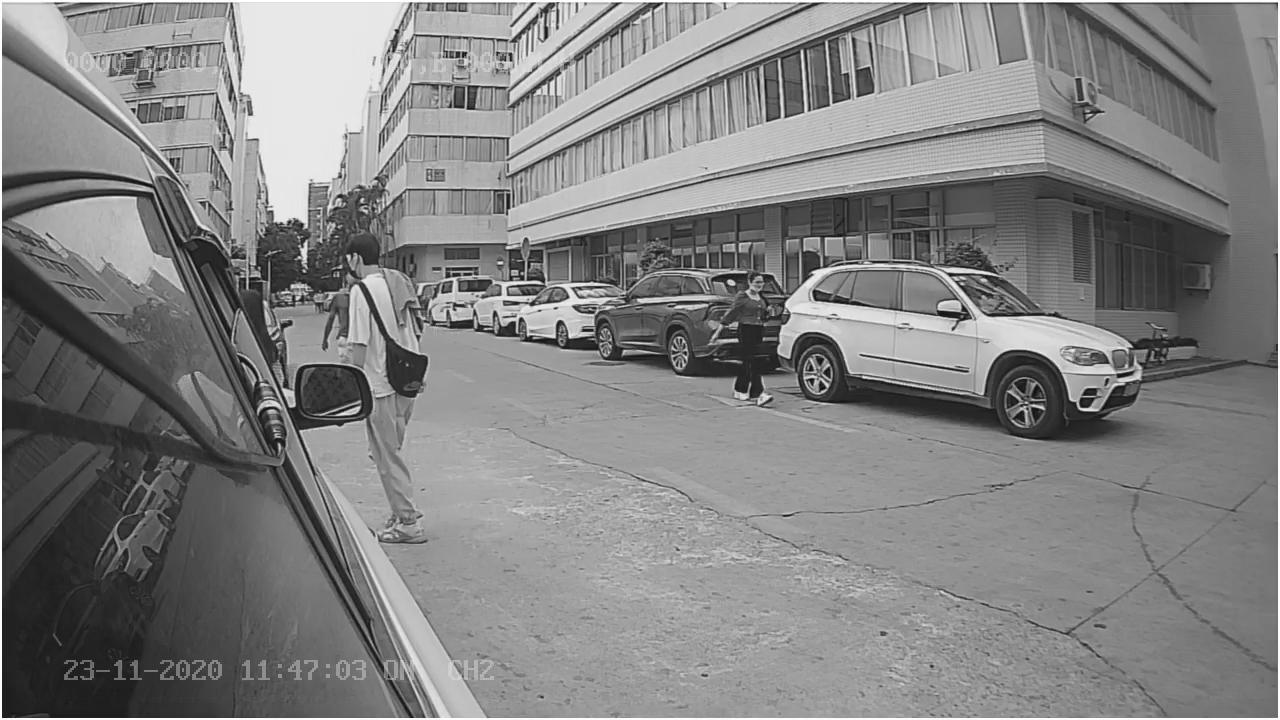person: (707, 254, 783, 408)
